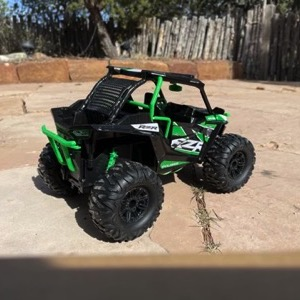polaris: (34, 64, 258, 246)
